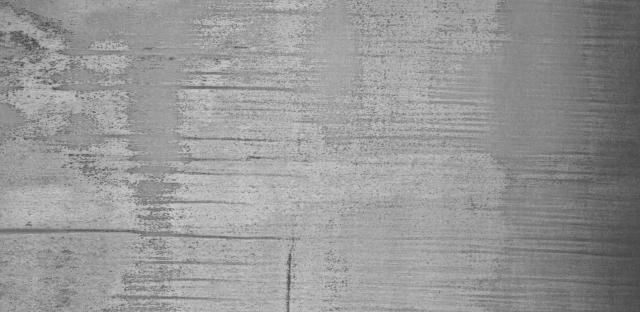waist_folding: (101, 42, 631, 286)
